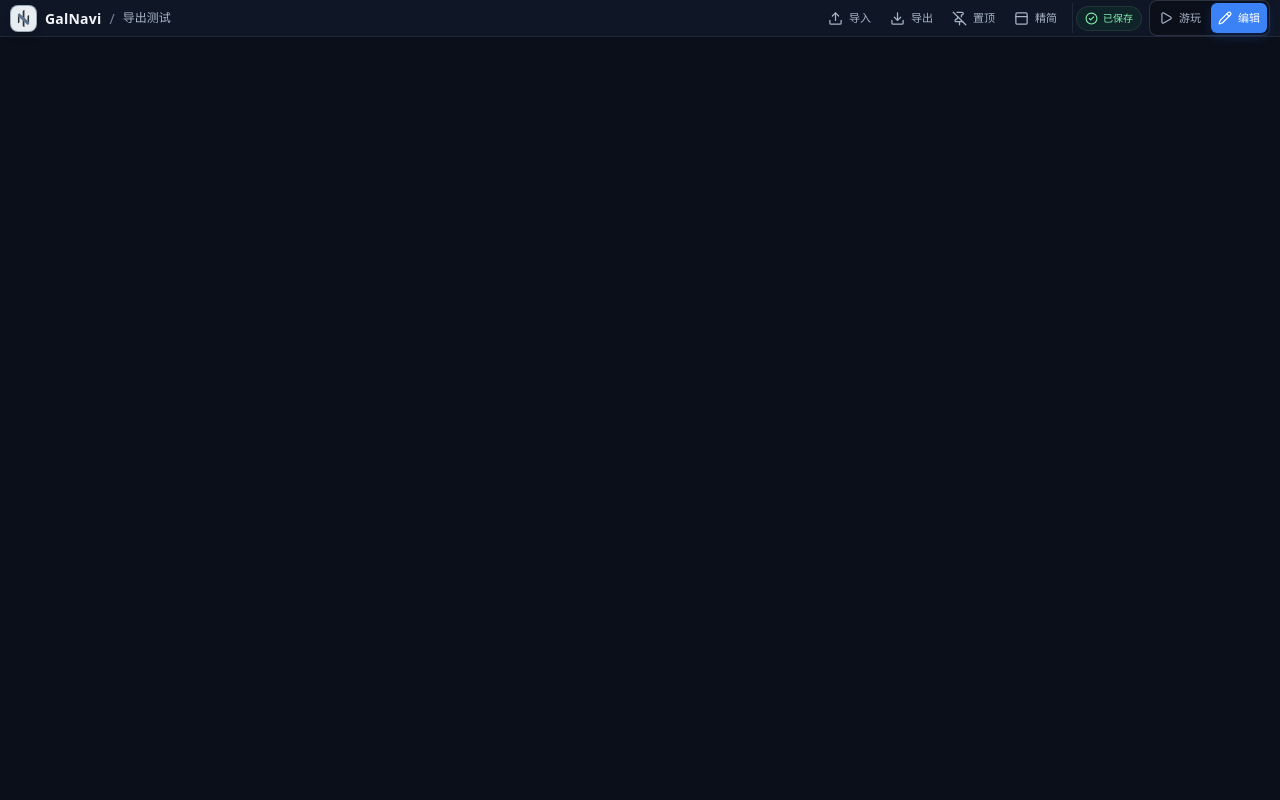
Test: localized project UI › asks whether to include play progress before exporting
The width and height of the screenshot is (1280, 800).
What coordinates should you click on to do the following:
click the button with aria-label "导出当前项目"
I would click on:
 (912, 18)
Its box is [882, 3, 941, 33].
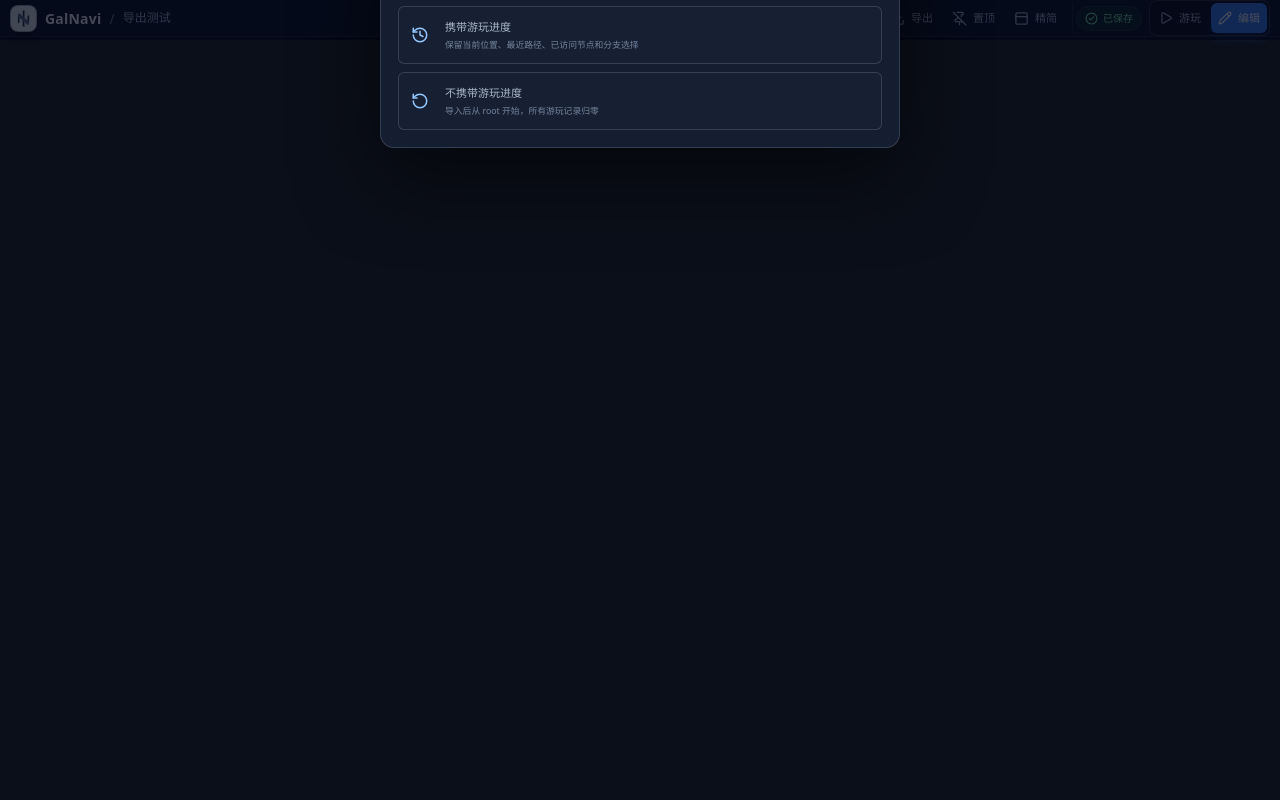
Result: the button with aria-label "携带游玩进度导出" is enabled at [398, 6, 882, 64]
Result: the button with aria-label "不携带游玩进度导出" is enabled at [398, 72, 882, 130]
